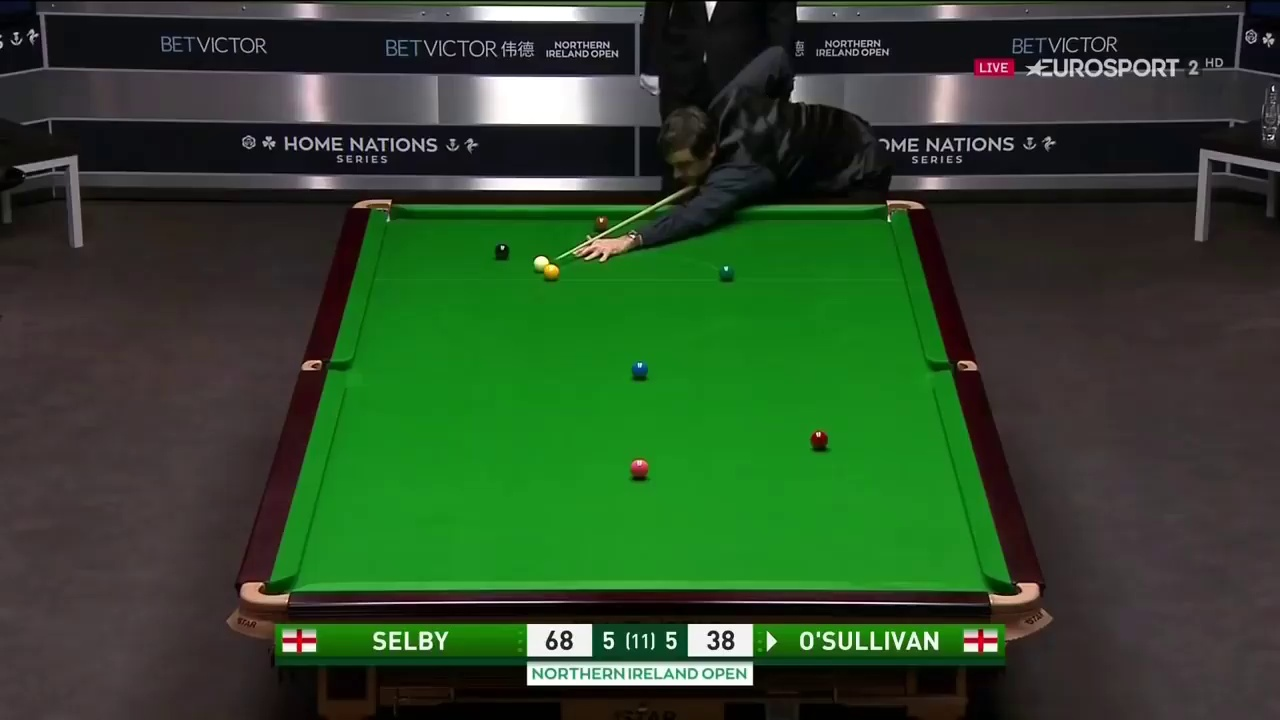black: (492, 241, 511, 258)
blue: (632, 360, 649, 379)
green: (718, 261, 734, 283)
pink: (630, 458, 650, 477)
red: (812, 431, 827, 450)
yellow: (542, 265, 558, 281)
